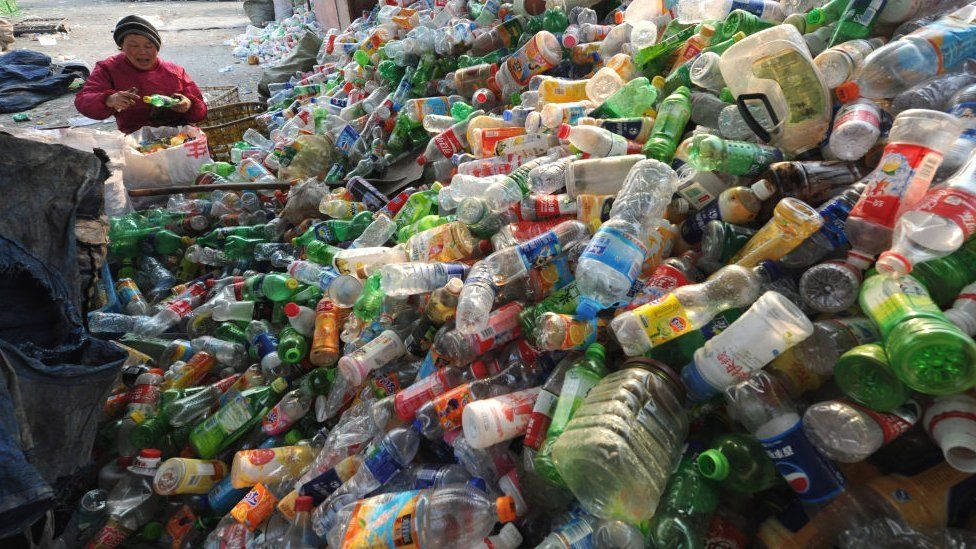plastic: (545, 353, 704, 526), (730, 364, 875, 545), (830, 99, 976, 274), (563, 153, 683, 322), (666, 284, 818, 403), (720, 18, 842, 162), (598, 253, 774, 352), (852, 263, 976, 395), (826, 1, 976, 107), (311, 411, 426, 544), (316, 483, 525, 546), (77, 445, 176, 549), (480, 210, 603, 292), (363, 357, 487, 436), (717, 191, 828, 278), (185, 369, 289, 458), (914, 382, 976, 487), (109, 362, 174, 460), (686, 132, 814, 181), (406, 103, 497, 171), (485, 25, 570, 96), (332, 321, 409, 386), (371, 250, 470, 300), (148, 453, 257, 498), (641, 84, 698, 168), (549, 115, 659, 158), (823, 93, 887, 166), (285, 205, 380, 251), (135, 283, 212, 339), (452, 248, 495, 336), (98, 200, 172, 243), (191, 217, 275, 252), (205, 293, 290, 327), (232, 269, 308, 307), (83, 303, 160, 335), (268, 324, 312, 364), (340, 173, 391, 207), (282, 303, 330, 332), (220, 234, 272, 257)
